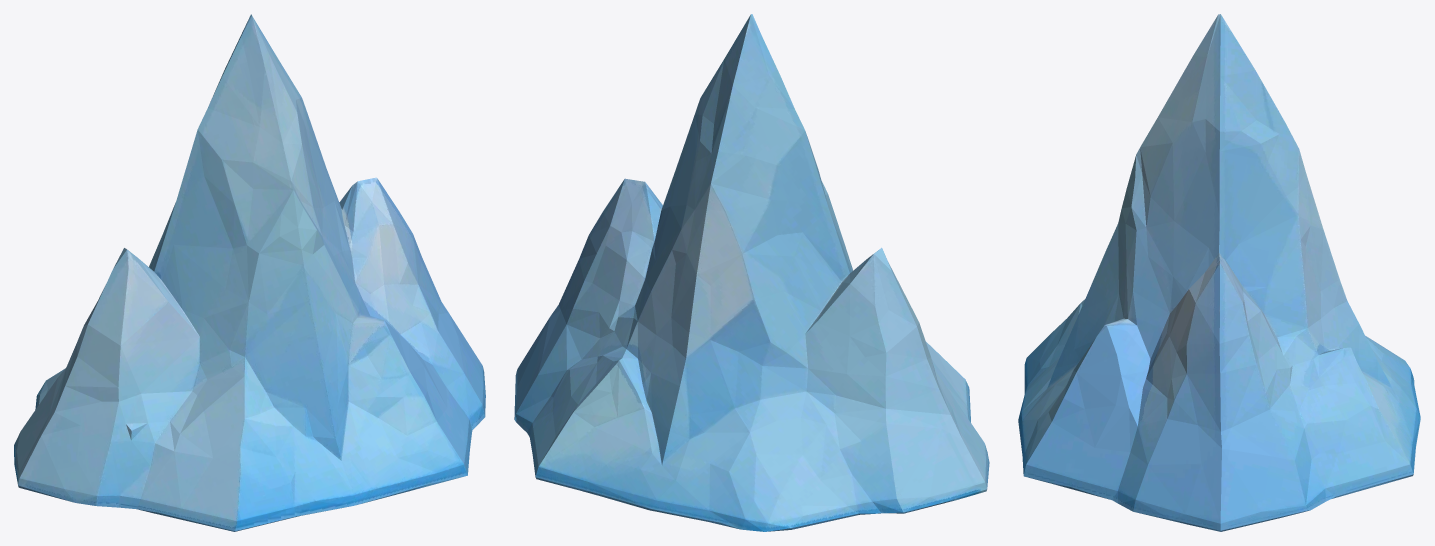
File: crystal_shard_1.glb
The picture shows the model from 3 angles, left to right: view 1: azimuth 30°, elevation 25°; view 2: azimuth 150°, elevation 25°; view 3: azimuth 270°, elevation 25°; orthographic projection. The views are drawn at different scales.
Size of the model in its own units: 1.98 by 1.69 by 1.51.
1 material, 1 textured.
